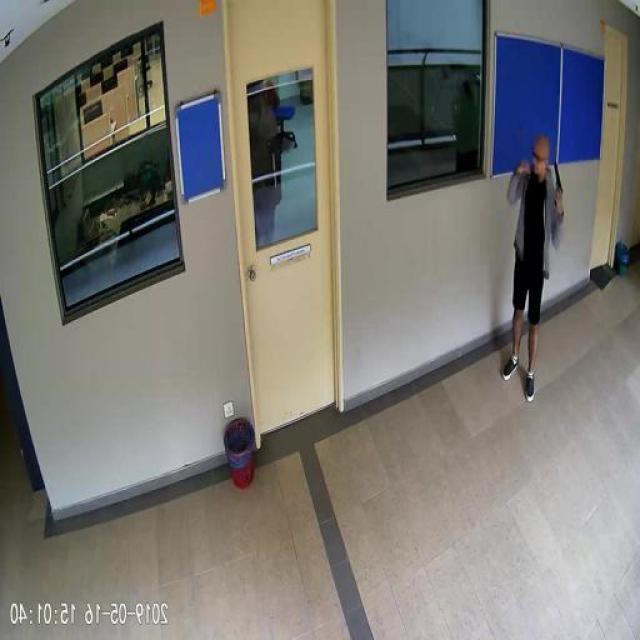weapon: (553, 160, 564, 207)
